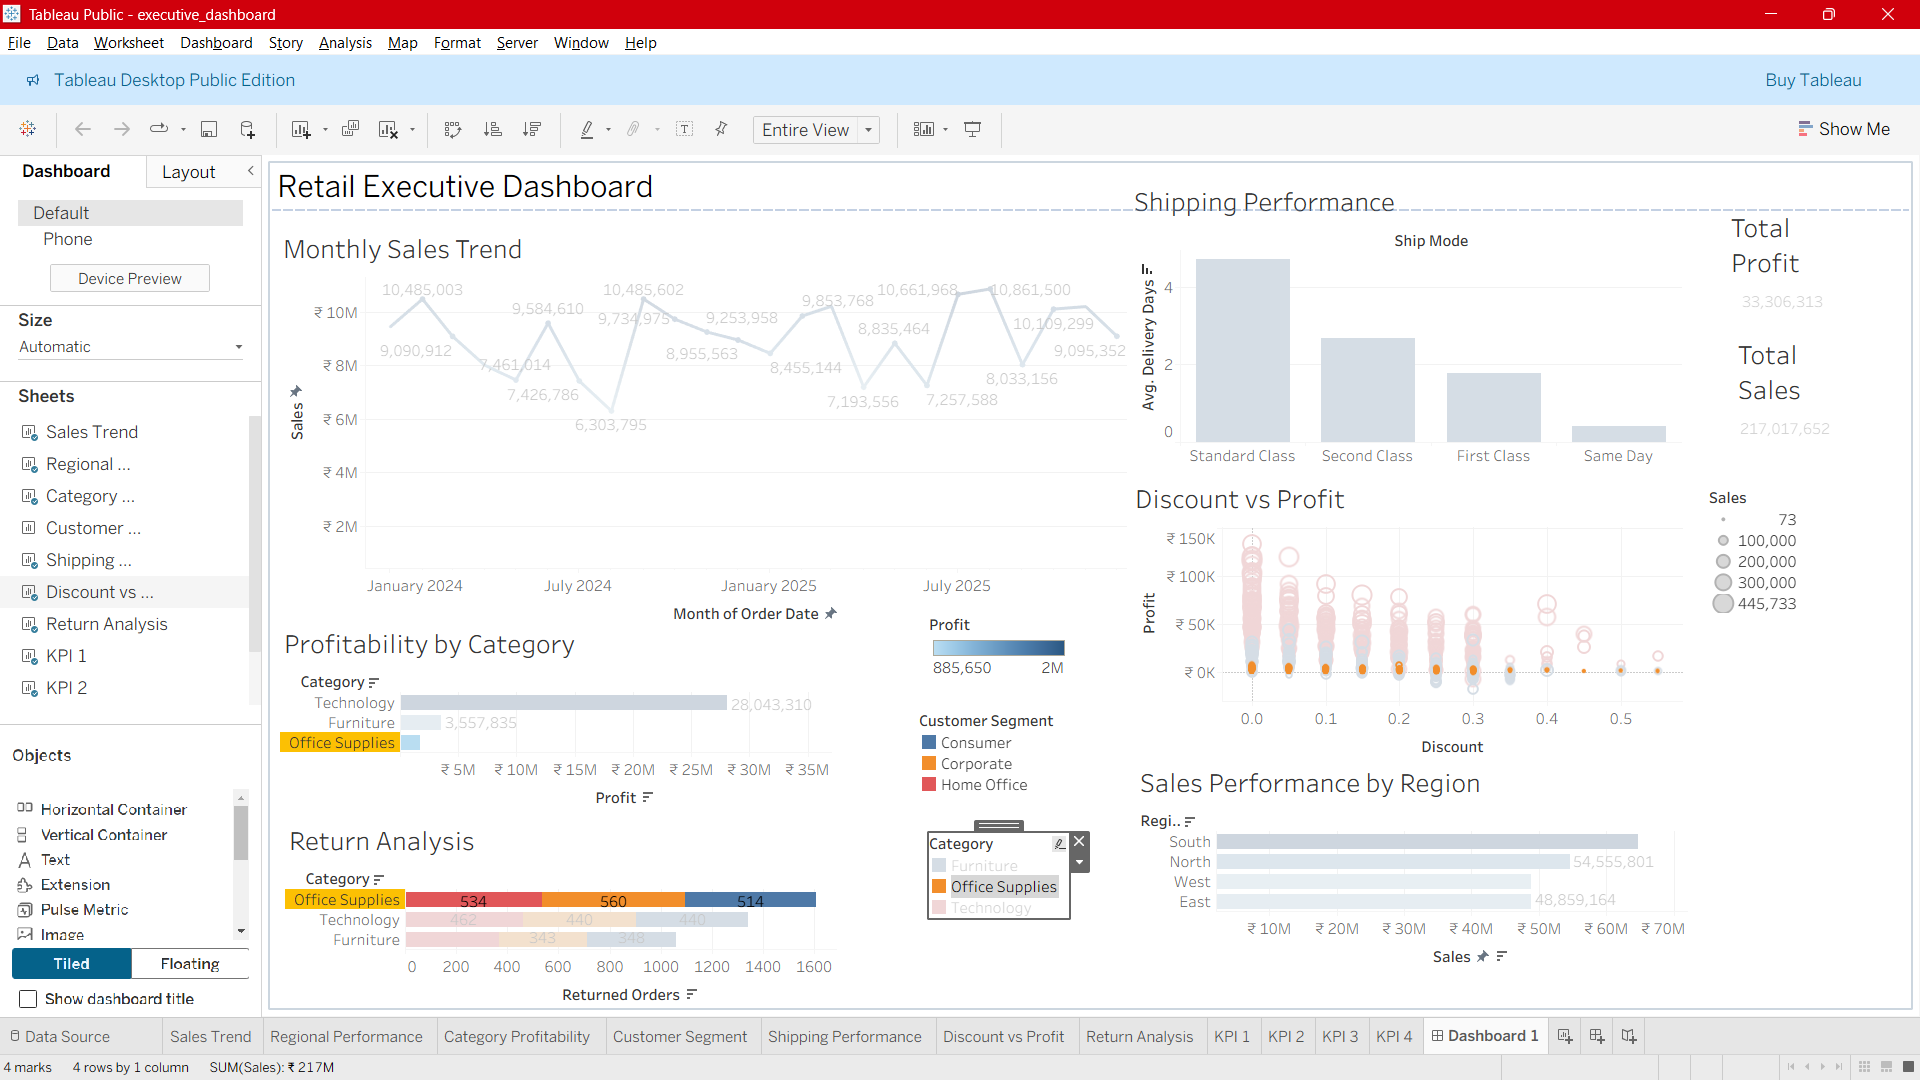

The page's visual inventory and layout, read from the dashboard file:
{"tool":"tableau","page":{"name":"Dashboard 1","canvas":[1000,1000],"units":"permille","ordinal":0},"visuals":[{"type":"title","box":[4.8,9.3,990.3,53.4]},{"type":"worksheet","title":"Shipping Performance","mark":"Automatic","rows":["delivery_days"],"cols":["ship_mode"],"box":[523.8,29,333.1,333.3]},{"type":"worksheet","title":"KPI 2","mark":"Automatic","box":[884.1,59.2,67.6,147.5]},{"type":"worksheet","title":"Sales Trend","mark":"Automatic","rows":["sales"],"cols":["order_date"],"box":[10.3,83.6,511.8,469.2]},{"type":"worksheet","title":"KPI 1","mark":"Automatic","box":[888.4,206.7,61.6,130.1]},{"type":"worksheet","title":"Discount vs Profit","mark":"Automatic","rows":["profit"],"cols":["discount"],"box":[524.4,374,333.1,333.3]},{"type":"legend","title":"Discount vs Profit","param":"[federated.1i6tupz0d584jg14u8l03011ymi4].[sum:sales:qk]","box":[873.3,385.6,84.5,147.5]},{"type":"legend","title":"Sales Trend","param":"[federated.1i6tupz0d584jg14u8l03011ymi4].[sum:profit:qk]","box":[402.5,533.1,84.5,102.2]},{"type":"worksheet","title":"Category Profitability","mark":"Automatic","rows":["category"],"cols":["profit"],"box":[10.9,542.4,333.1,240.4]},{"type":"legend","title":"Return Analysis","param":"[federated.1i6tupz0d584jg14u8l03011ymi4].[none:customer_segment:nk]","box":[396.5,644.6,84.5,98.7]},{"type":"worksheet","title":"Regional Performance","mark":"Automatic","rows":["region"],"cols":["sales"],"box":[527.5,703.8,333.1,290.4]},{"type":"legend","title":"Discount vs Profit","param":"[federated.1i6tupz0d584jg14u8l03011ymi4].[none:category:nk]","box":[402.5,787.5,84.5,98.7]}]}

Visuals, with their boxes on the dashboard's canvas, which has no fixed pixel size, in thousandths of its width and height (x1, y1, x2, y2). These are canvas units, not pixel positions in the 1920x1080 screenshot, which may show the page scaled, cropped or inside an application window:
title: <bbox>5, 9, 995, 63</bbox>
"Shipping Performance" worksheet: <bbox>524, 29, 857, 362</bbox>
"KPI 2" worksheet: <bbox>884, 59, 952, 207</bbox>
"Sales Trend" worksheet: <bbox>10, 84, 522, 553</bbox>
"KPI 1" worksheet: <bbox>888, 207, 950, 337</bbox>
"Discount vs Profit" worksheet: <bbox>524, 374, 858, 707</bbox>
"Discount vs Profit" legend: <bbox>873, 386, 958, 533</bbox>
"Sales Trend" legend: <bbox>402, 533, 487, 635</bbox>
"Category Profitability" worksheet: <bbox>11, 542, 344, 783</bbox>
"Return Analysis" legend: <bbox>396, 645, 481, 743</bbox>
"Regional Performance" worksheet: <bbox>528, 704, 861, 994</bbox>
"Discount vs Profit" legend: <bbox>402, 788, 487, 886</bbox>
